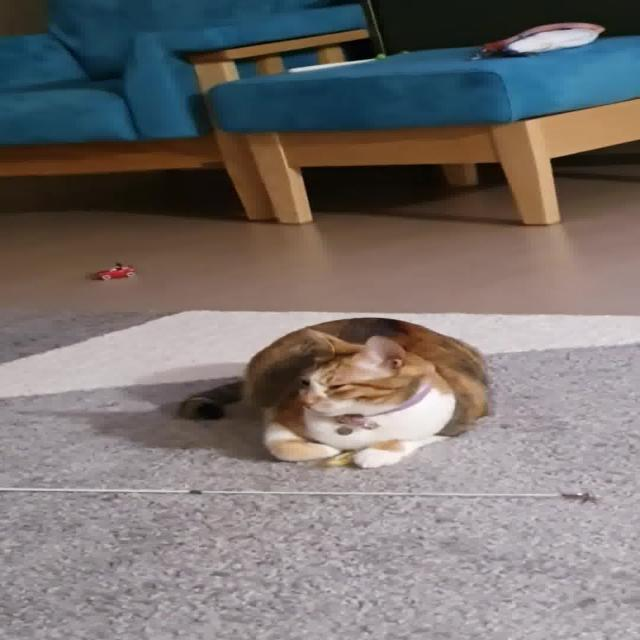cat: (166, 300, 520, 480)
